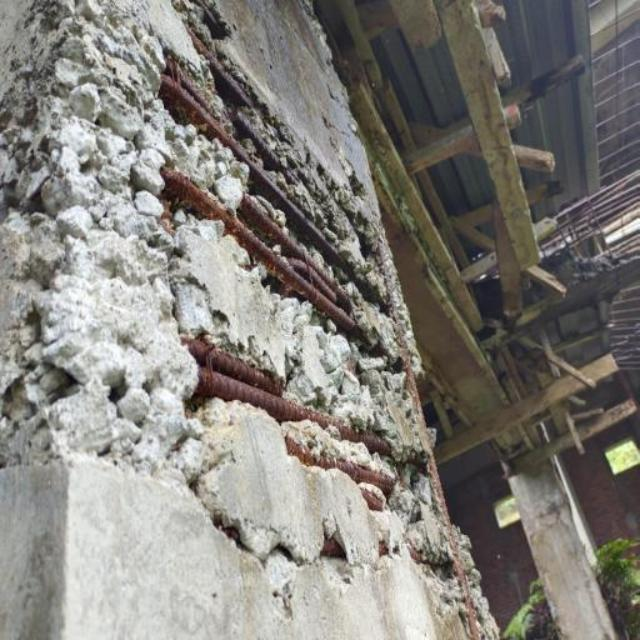D0w0: (2, 2, 465, 620)
